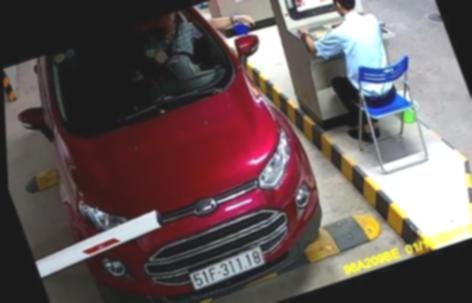License_Plate: (178, 244, 273, 297)
